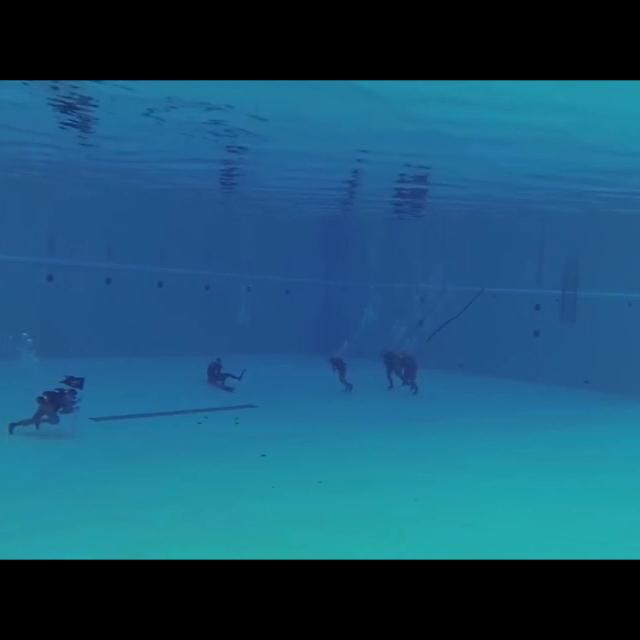human: (5, 366, 87, 441), (201, 349, 248, 395), (322, 349, 359, 397), (377, 341, 408, 395), (400, 349, 425, 400)
